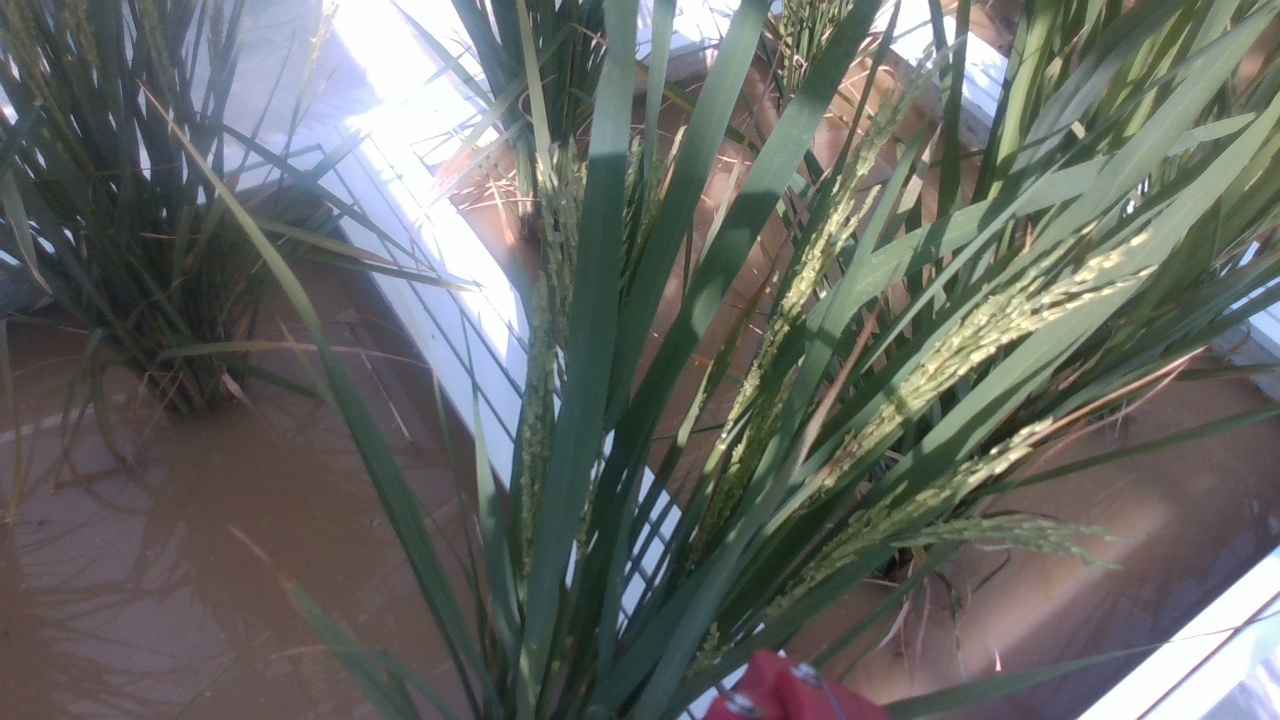panicle: (826, 206, 1150, 463), (725, 66, 891, 396), (779, 416, 1060, 594), (498, 273, 571, 516)
